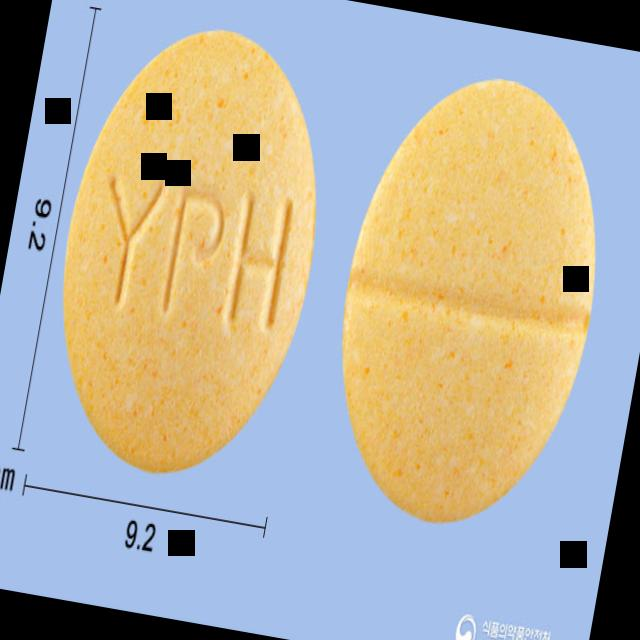Cipoxacin: (29, 6, 348, 494), (311, 58, 629, 544)
